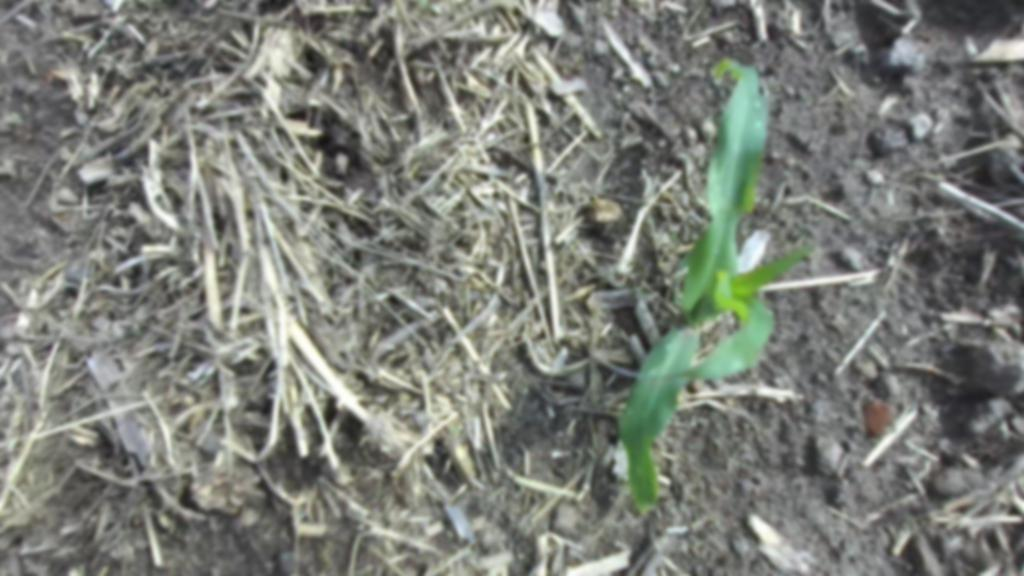BroWeed: (44, 68, 66, 82), (670, 232, 679, 239), (632, 287, 641, 292)
Maize: (552, 52, 868, 538)
